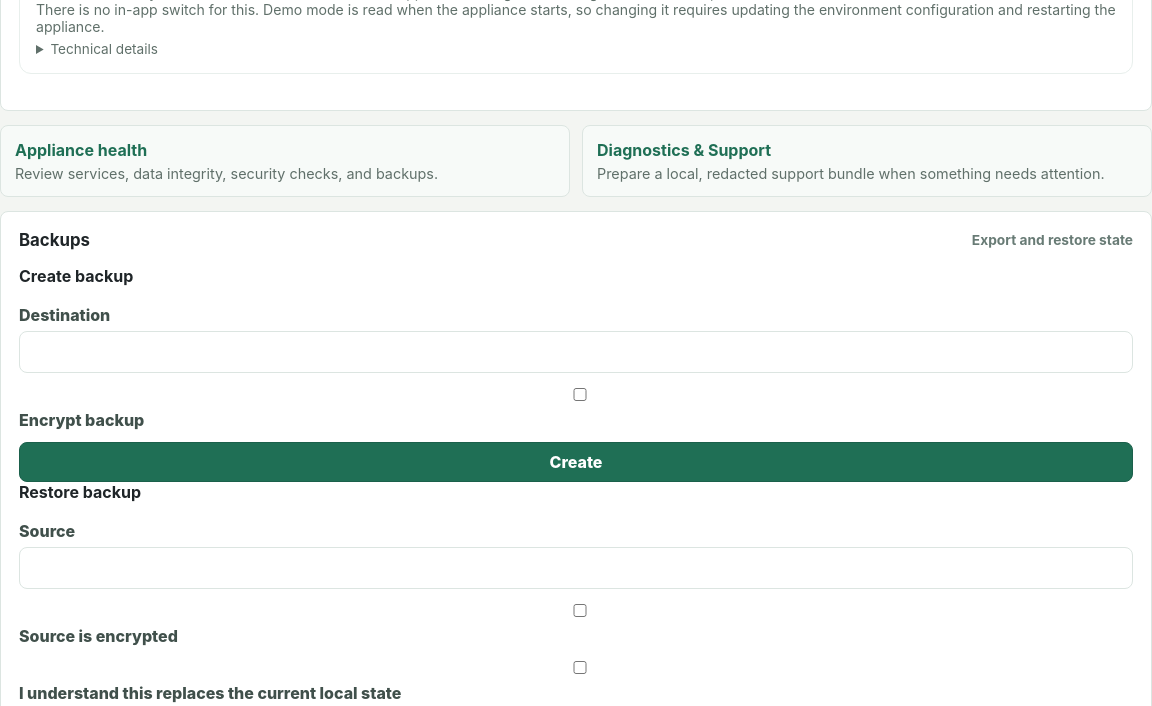
wla-04 onboarding and parity surfaces › submits an admin backup request from Settings
The image size is (1152, 706).
(page scrolled)
Type "/workspace/backups" into the field labelled "Destination".
click(576, 352); type("/workspace/backups")  # box [19,331,1133,373]
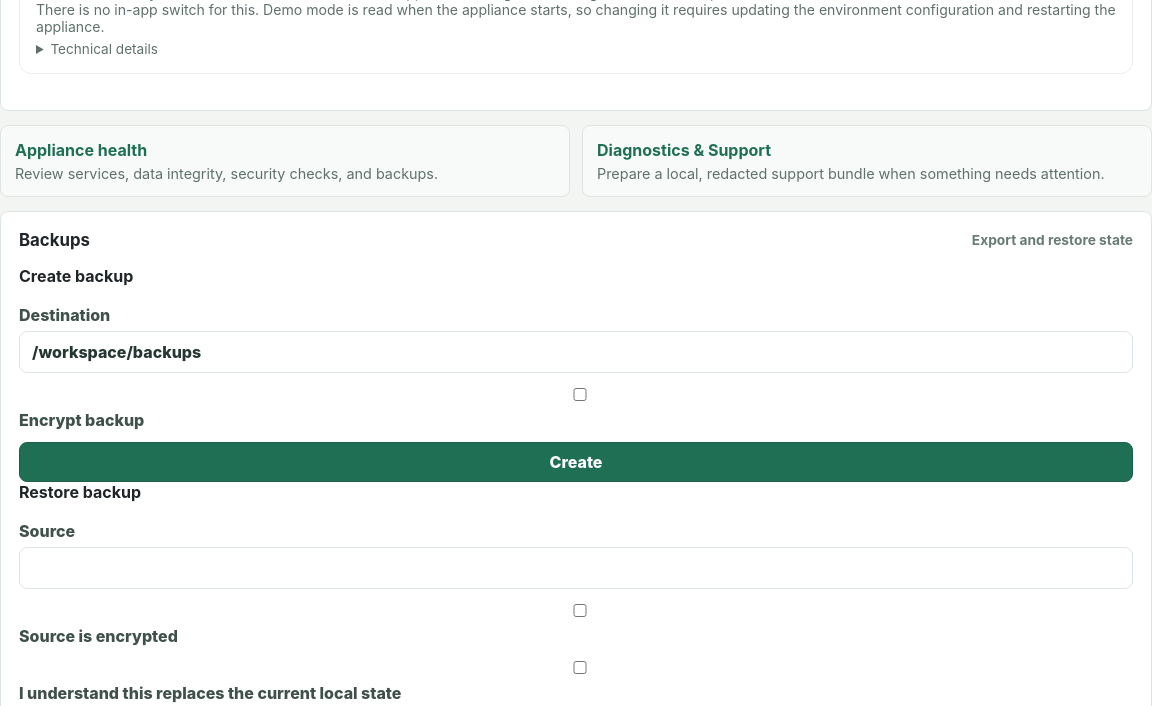
Click the checkbox labelled "Encrypt backup".
click(580, 394)  # box [23,388,1137,401]
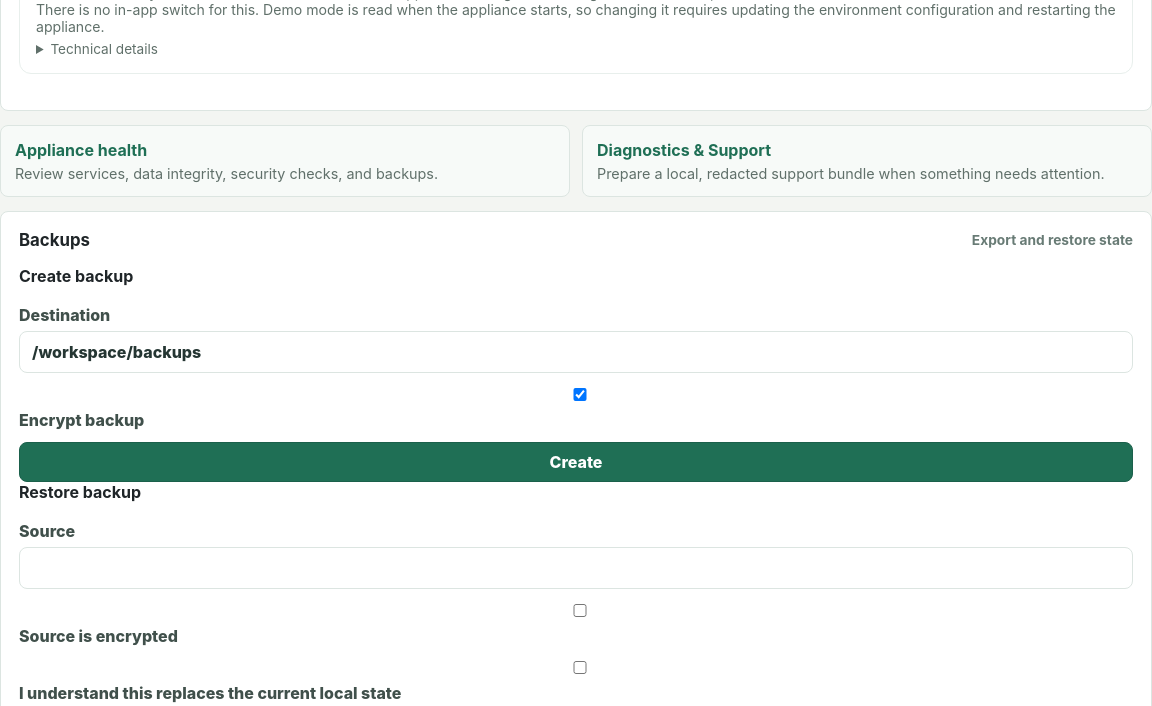
Click the button "Create".
click(576, 462)  # box [19,442,1133,482]
(page scrolled)
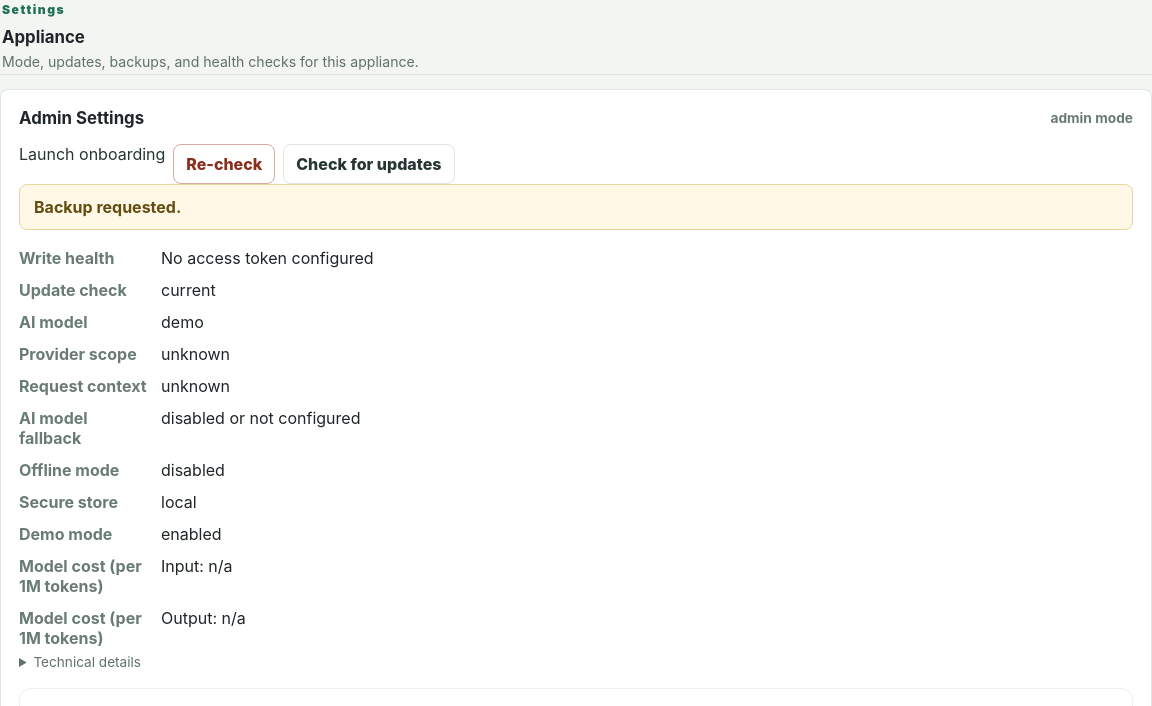
Check: the text "Backup requested." is shown, box [19,184,1133,230]
